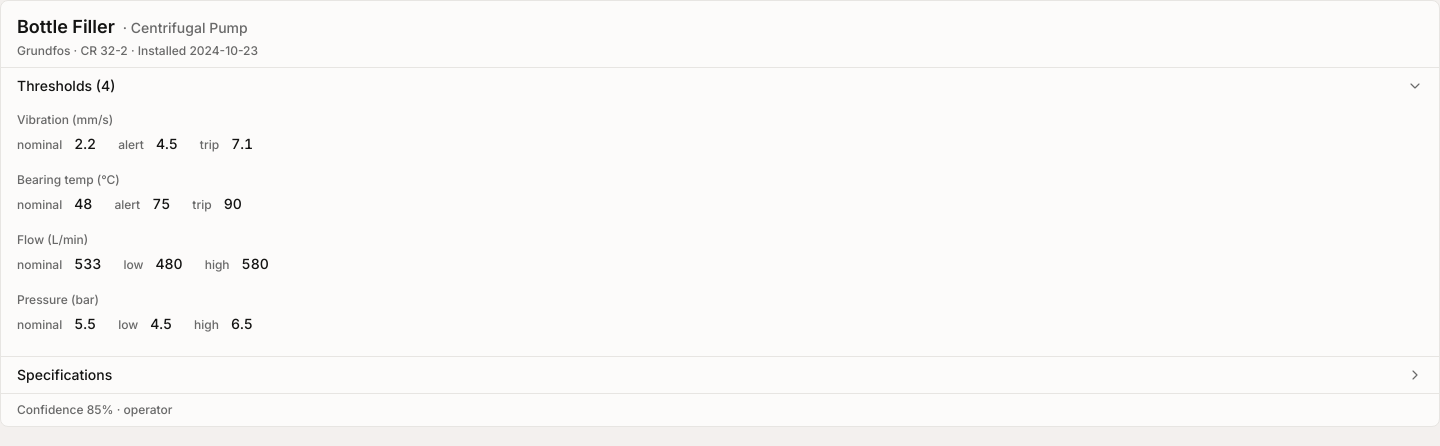
EquipmentKbCard › switches a threshold value to an input when clicked (autofocus + prefilled)
What coordinates should you click on to do the following:
click the button with test id "threshold-value-thresholds.vibration_mm_s.alert"
I would click on:
 (167, 144)
Its box is [150, 132, 184, 156].
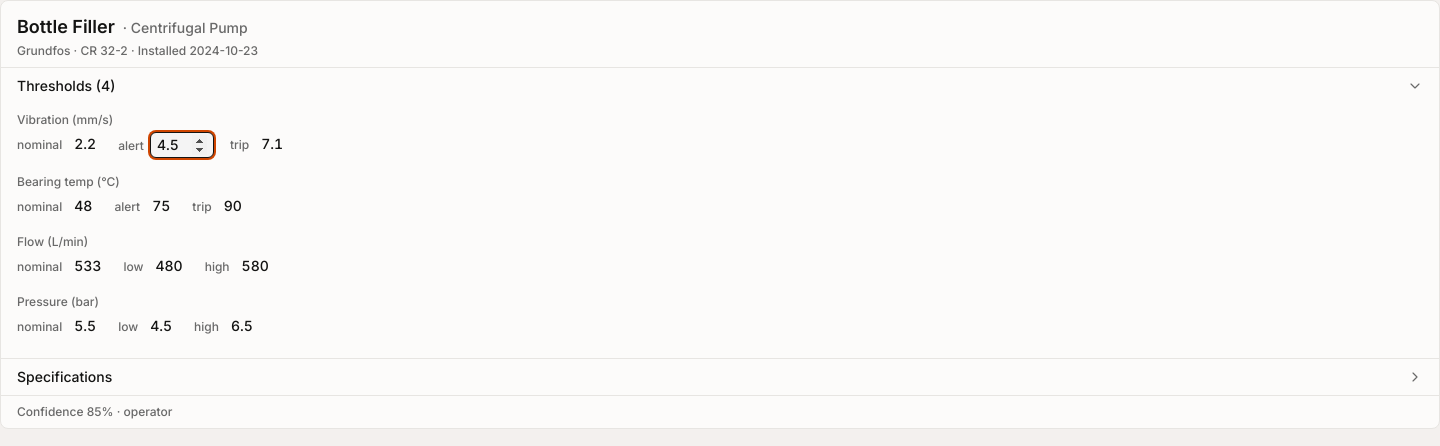
Expected: the number field named "Vibration (mm/s) alert" holds "4.5", [150, 132, 214, 158]
